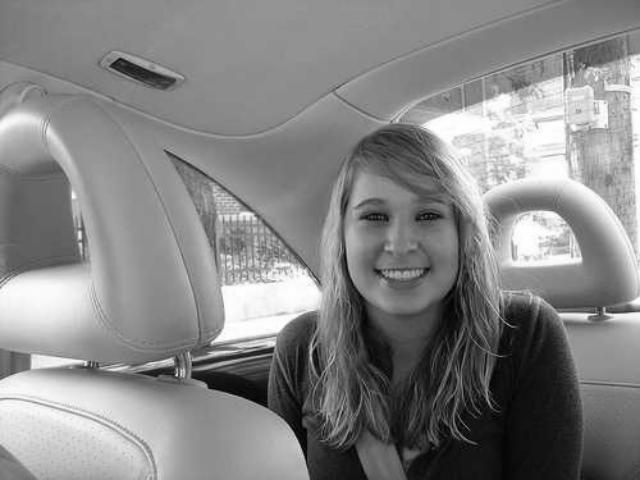SafeDriving: (350, 198, 395, 231), (408, 198, 451, 229)
Seatbelt: (347, 398, 413, 480)
